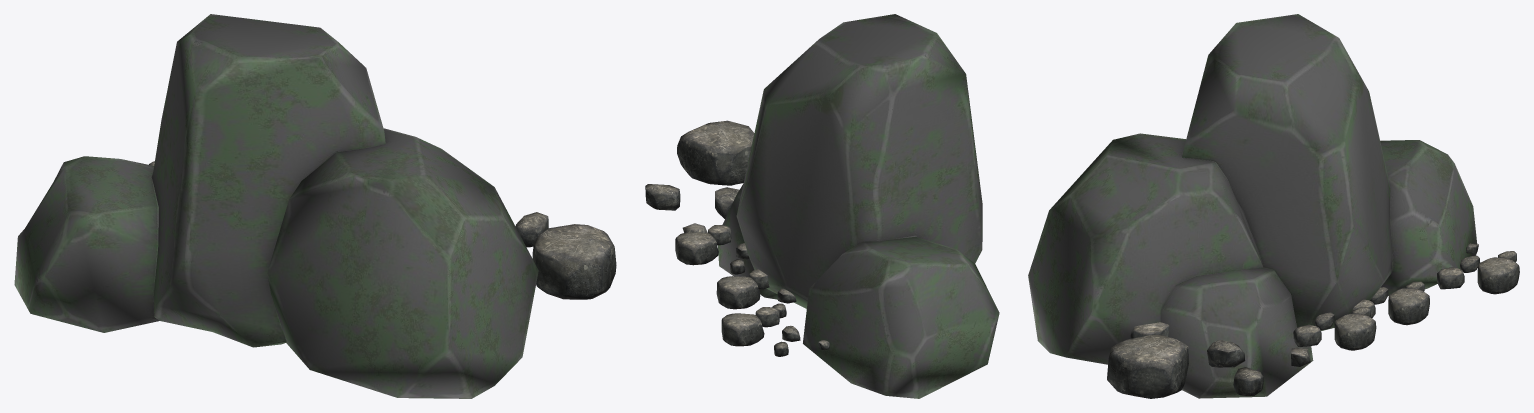
File: Dream2_Rocks.glb
3 views of the same model, side by side, from view 1: azimuth 30°, elevation 25°; view 2: azimuth 150°, elevation 25°; view 3: azimuth 270°, elevation 25° (orthographic). The views are drawn at different scales.
Parts seen in each view (by area): view 1: PolySphere, PolySphere1, PolySphere2, smallrock5_smallrocks_0.002, smallrock2_smallrocks_0.002; view 2: PolySphere1, PolySphere2, smallrock5_smallrocks_0.002, PolySphere1_1, smallrock5, smallrock5_smallrocks_0.003, smallrock5_smallrocks_0.001, smallrock2_smallrocks_0.002, smallrock3_smallrocks_0.002, smallrock4_smallrocks_0.001, smallrock4_smallrocks_0.003; view 3: PolySphere1, PolySphere, PolySphere1_1, PolySphere2, smallrock5_smallrocks_0.002, smallrock5_smallrocks_0.001, smallrock5_smallrocks_0.003, smallrock5, smallrock3_smallrocks_0.002, smallrock2_smallrocks_0.002, smallrock4_smallrocks_0.003, smallrock4_smallrocks_0.001 (+1 smaller).
Part boxes in pixels (bbox=[...]): PolySphere: bbox=[267, 128, 538, 398]; PolySphere1: bbox=[151, 14, 385, 347]; PolySphere2: bbox=[14, 156, 159, 332]; smallrock5_smallrocks_0.002: bbox=[532, 224, 616, 299]; smallrock2_smallrocks_0.002: bbox=[515, 212, 548, 247]; PolySphere1: bbox=[736, 14, 982, 308]; PolySphere2: bbox=[803, 236, 999, 398]; smallrock5_smallrocks_0.002: bbox=[677, 120, 754, 185]; PolySphere1_1: bbox=[717, 183, 777, 299]; smallrock5: bbox=[716, 276, 760, 309]; smallrock5_smallrocks_0.003: bbox=[675, 232, 718, 265]; smallrock5_smallrocks_0.001: bbox=[721, 313, 764, 346]; smallrock2_smallrocks_0.002: bbox=[645, 184, 680, 210]; smallrock3_smallrocks_0.002: bbox=[715, 187, 739, 218]; smallrock4_smallrocks_0.001: bbox=[755, 307, 779, 327]; smallrock4_smallrocks_0.003: bbox=[708, 225, 731, 245]; PolySphere1: bbox=[1182, 14, 1392, 330]; PolySphere: bbox=[1028, 133, 1263, 364]; PolySphere1_1: bbox=[1160, 268, 1313, 398]; PolySphere2: bbox=[1380, 140, 1477, 295]; smallrock5_smallrocks_0.002: bbox=[1107, 334, 1188, 398]; smallrock5_smallrocks_0.001: bbox=[1477, 257, 1519, 294]; smallrock5_smallrocks_0.003: bbox=[1334, 313, 1376, 350]; smallrock5: bbox=[1388, 288, 1429, 325]; smallrock3_smallrocks_0.002: bbox=[1207, 340, 1245, 367]; smallrock2_smallrocks_0.002: bbox=[1233, 367, 1263, 395]; smallrock4_smallrocks_0.003: bbox=[1293, 324, 1321, 346]; smallrock4_smallrocks_0.001: bbox=[1437, 267, 1464, 289].
Bounding box in the file's own units: 10.83 × 6.85 × 11.07.
Materials: 2 (2 with a texture image).
